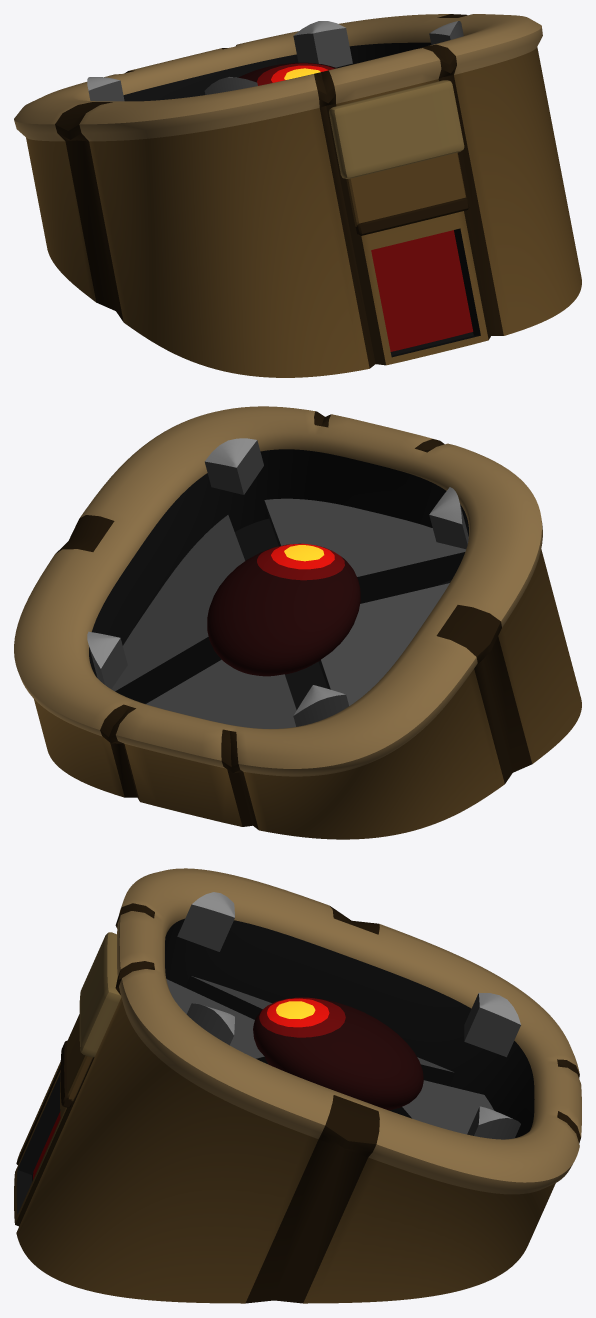
Rendered from eye_tub_205.glb.
3 renders of one model, top to bottom at view 1: azimuth 30°, elevation 25°; view 2: azimuth 150°, elevation 25°; view 3: azimuth 270°, elevation 25°, orthographic. The views are drawn at different scales.
Parts seen in each view (by area): view 1: tub, band, lamp, shutter, petal0, shutter_lip, eye, petal1, petal2, petal3; view 2: tub, eye, housing2, housing3, housing0, housing1, petal3, petal2, petal0, petal1; view 3: tub, eye, band, housing1, petal1, petal2, housing0, housing3, petal0, shutter, petal3.
Part boxes in pixels (bbox=[...]): tub: bbox=[14, 14, 581, 377]; band: bbox=[329, 80, 464, 178]; lamp: bbox=[371, 230, 473, 351]; shutter: bbox=[346, 152, 466, 226]; petal0: bbox=[293, 21, 352, 67]; shutter_lip: bbox=[355, 197, 469, 235]; eye: bbox=[238, 62, 336, 85]; petal1: bbox=[87, 77, 124, 101]; petal2: bbox=[204, 77, 257, 94]; petal3: bbox=[429, 21, 463, 44]; tub: bbox=[14, 406, 581, 839]; eye: bbox=[207, 543, 360, 676]; housing2: bbox=[111, 515, 244, 703]; housing3: bbox=[264, 498, 465, 603]; housing0: bbox=[318, 583, 449, 705]; housing1: bbox=[146, 659, 296, 728]; petal3: bbox=[204, 438, 263, 494]; petal2: bbox=[429, 487, 468, 549]; petal0: bbox=[87, 631, 127, 689]; petal1: bbox=[293, 685, 348, 726]; tub: bbox=[14, 868, 581, 1303]; eye: bbox=[253, 997, 423, 1110]; band: bbox=[79, 932, 121, 1057]; housing1: bbox=[389, 1080, 493, 1134]; petal1: bbox=[464, 993, 520, 1057]; petal2: bbox=[177, 892, 234, 951]; housing0: bbox=[185, 976, 455, 1086]; housing3: bbox=[166, 979, 268, 1064]; petal0: bbox=[467, 1106, 520, 1139]; shutter: bbox=[66, 1014, 92, 1101]; petal3: bbox=[186, 1003, 234, 1045].
Size of the model in its own units: 21.26 by 11.98 by 23.54.
